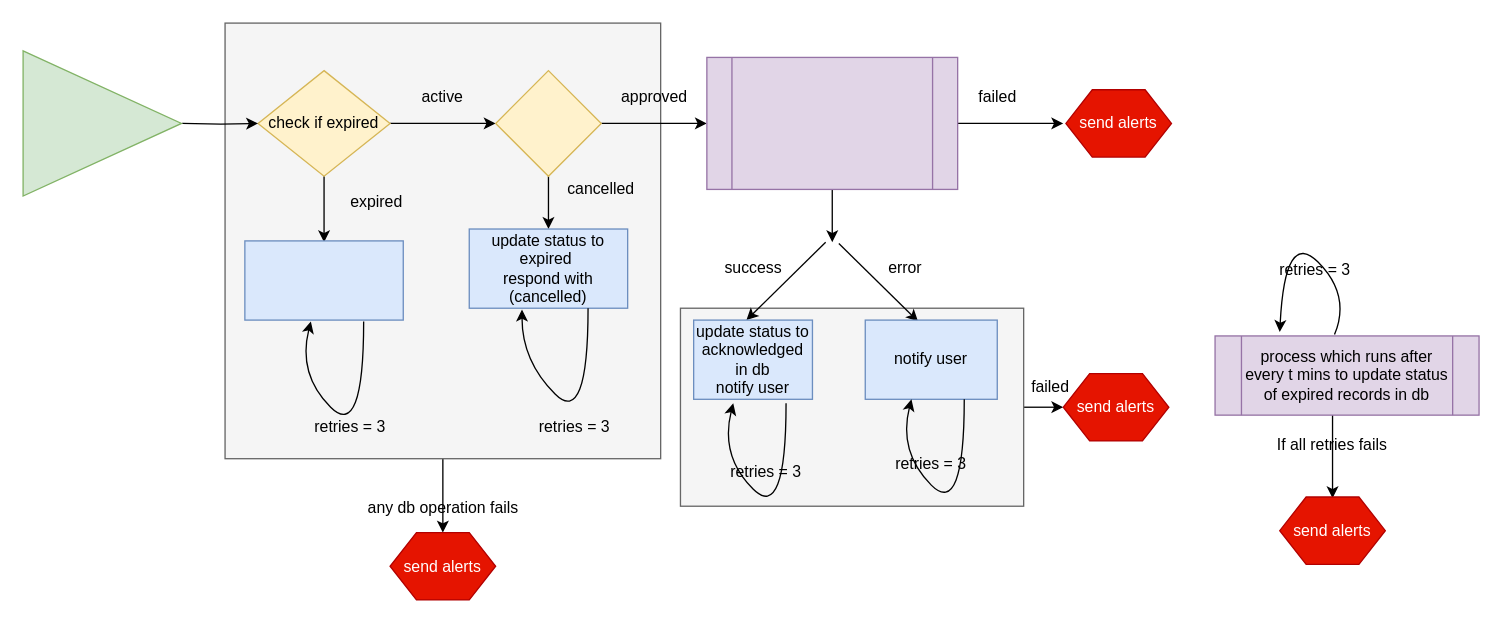
This 1502x623 diagram has some shape labels left out. Each missing label, with the centre of its shape:
"push record in ZMQ channel, which notifies blueshift to place order" goes at point 832,122.
"update status to actioned in db" goes at point 547,122.
"update user action to discarded in db respond with (expired)" goes at point 323,280.
"user acts on trade" goes at point 102,123.
